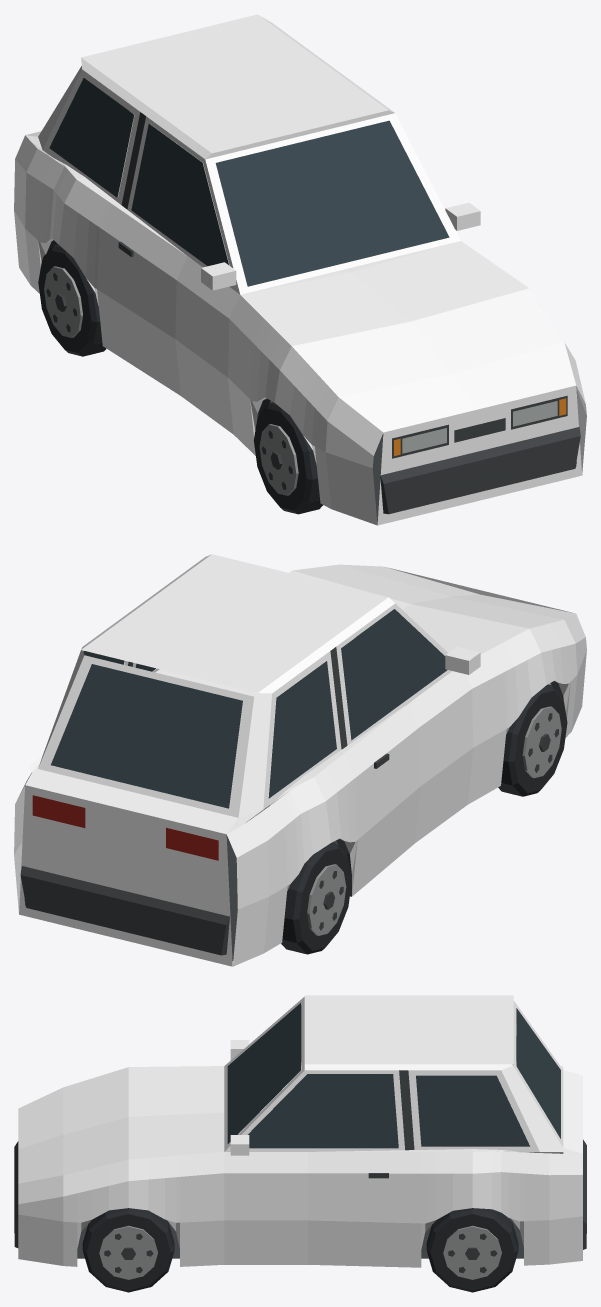
File: hayase_pika.glb
3 views of the same model, one above another, from view 1: azimuth 30°, elevation 25°; view 2: azimuth 150°, elevation 25°; view 3: azimuth 270°, elevation 25° (orthographic). The views are drawn at different scales.
Visible parts, largest first — view 1: hayase_pika; view 2: hayase_pika; view 3: hayase_pika.
Part boxes in pixels (x1,y1,x2,y2): hayase_pika: (14, 14, 586, 525); hayase_pika: (14, 554, 586, 966); hayase_pika: (14, 995, 586, 1292).
Size of the model in its own units: 1.61 by 1.51 by 3.68.
8 materials, 1 textured.
